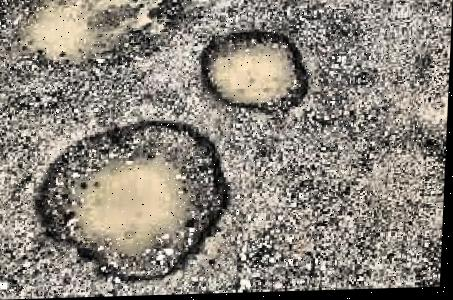pothole: (30, 116, 240, 289), (11, 0, 177, 73), (196, 29, 315, 115)
